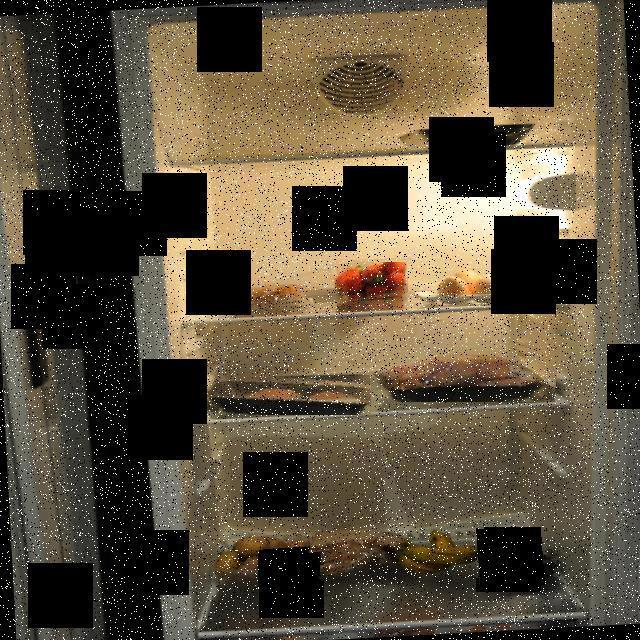banana: (376, 524, 484, 578)
blueberries: (475, 529, 565, 585)
bread: (309, 526, 408, 580)
chicken: (377, 338, 559, 402)
chicken_breast: (200, 370, 371, 415)
egg: (435, 262, 541, 306)
potato: (210, 534, 310, 591)
shrimp: (224, 284, 302, 309)
strawberries: (332, 262, 408, 303)
